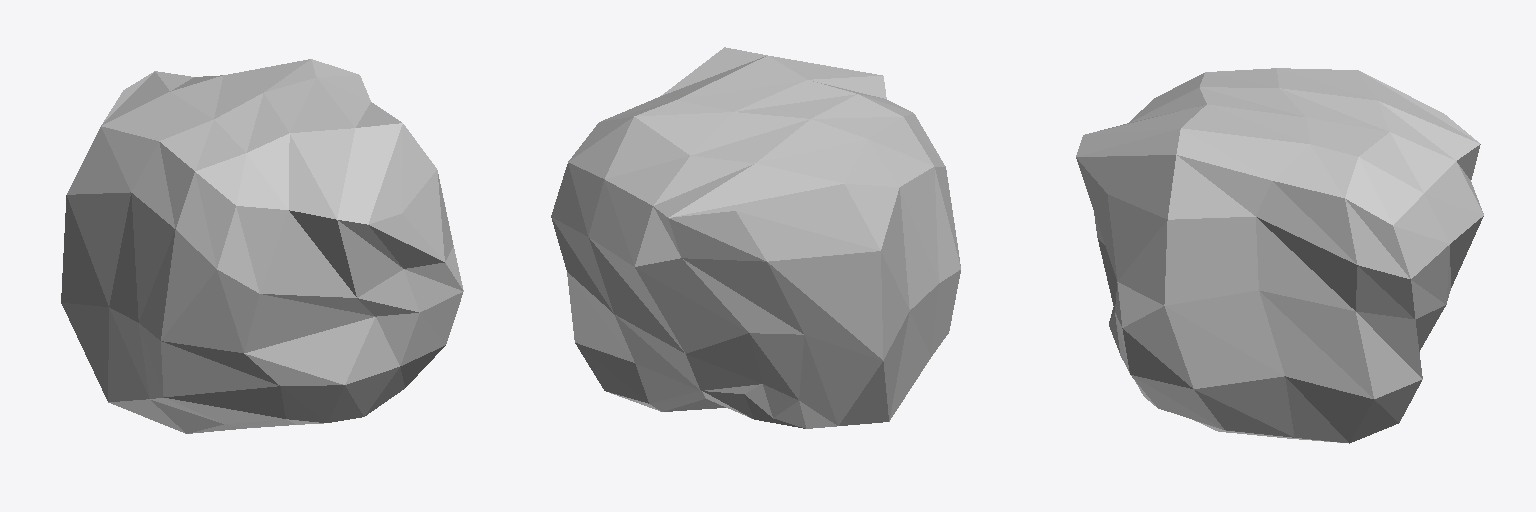
File: rock.obj
The picture shows the model from 3 angles: view 1: azimuth 30°, elevation 25°; view 2: azimuth 150°, elevation 25°; view 3: azimuth 270°, elevation 25°; orthographic projection.
Visible parts, largest first — view 1: Cube.001; view 2: Cube.001; view 3: Cube.001.
Part boxes in pixels (x1,y1,x2,y2): Cube.001: (61, 59, 463, 433); Cube.001: (551, 47, 960, 428); Cube.001: (1076, 68, 1483, 443).
Bounding box in the file's own units: 2.65 × 2.48 × 3.02.